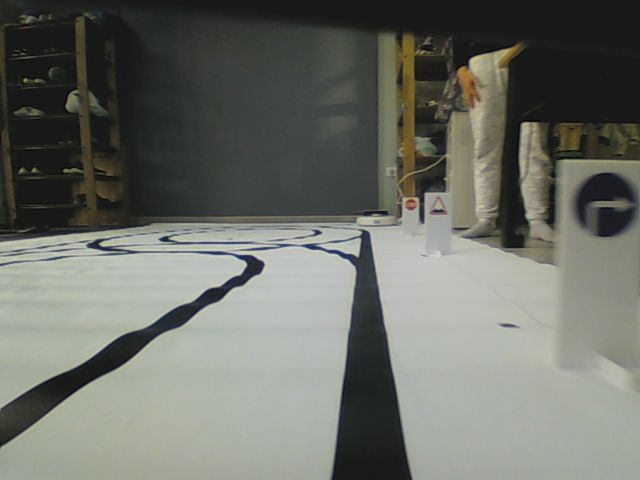Nerov: (429, 195, 448, 216)
Right: (571, 171, 638, 239)
